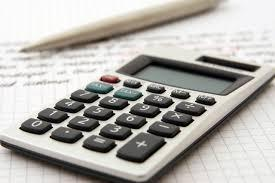Calculator: (0, 38, 275, 183)
